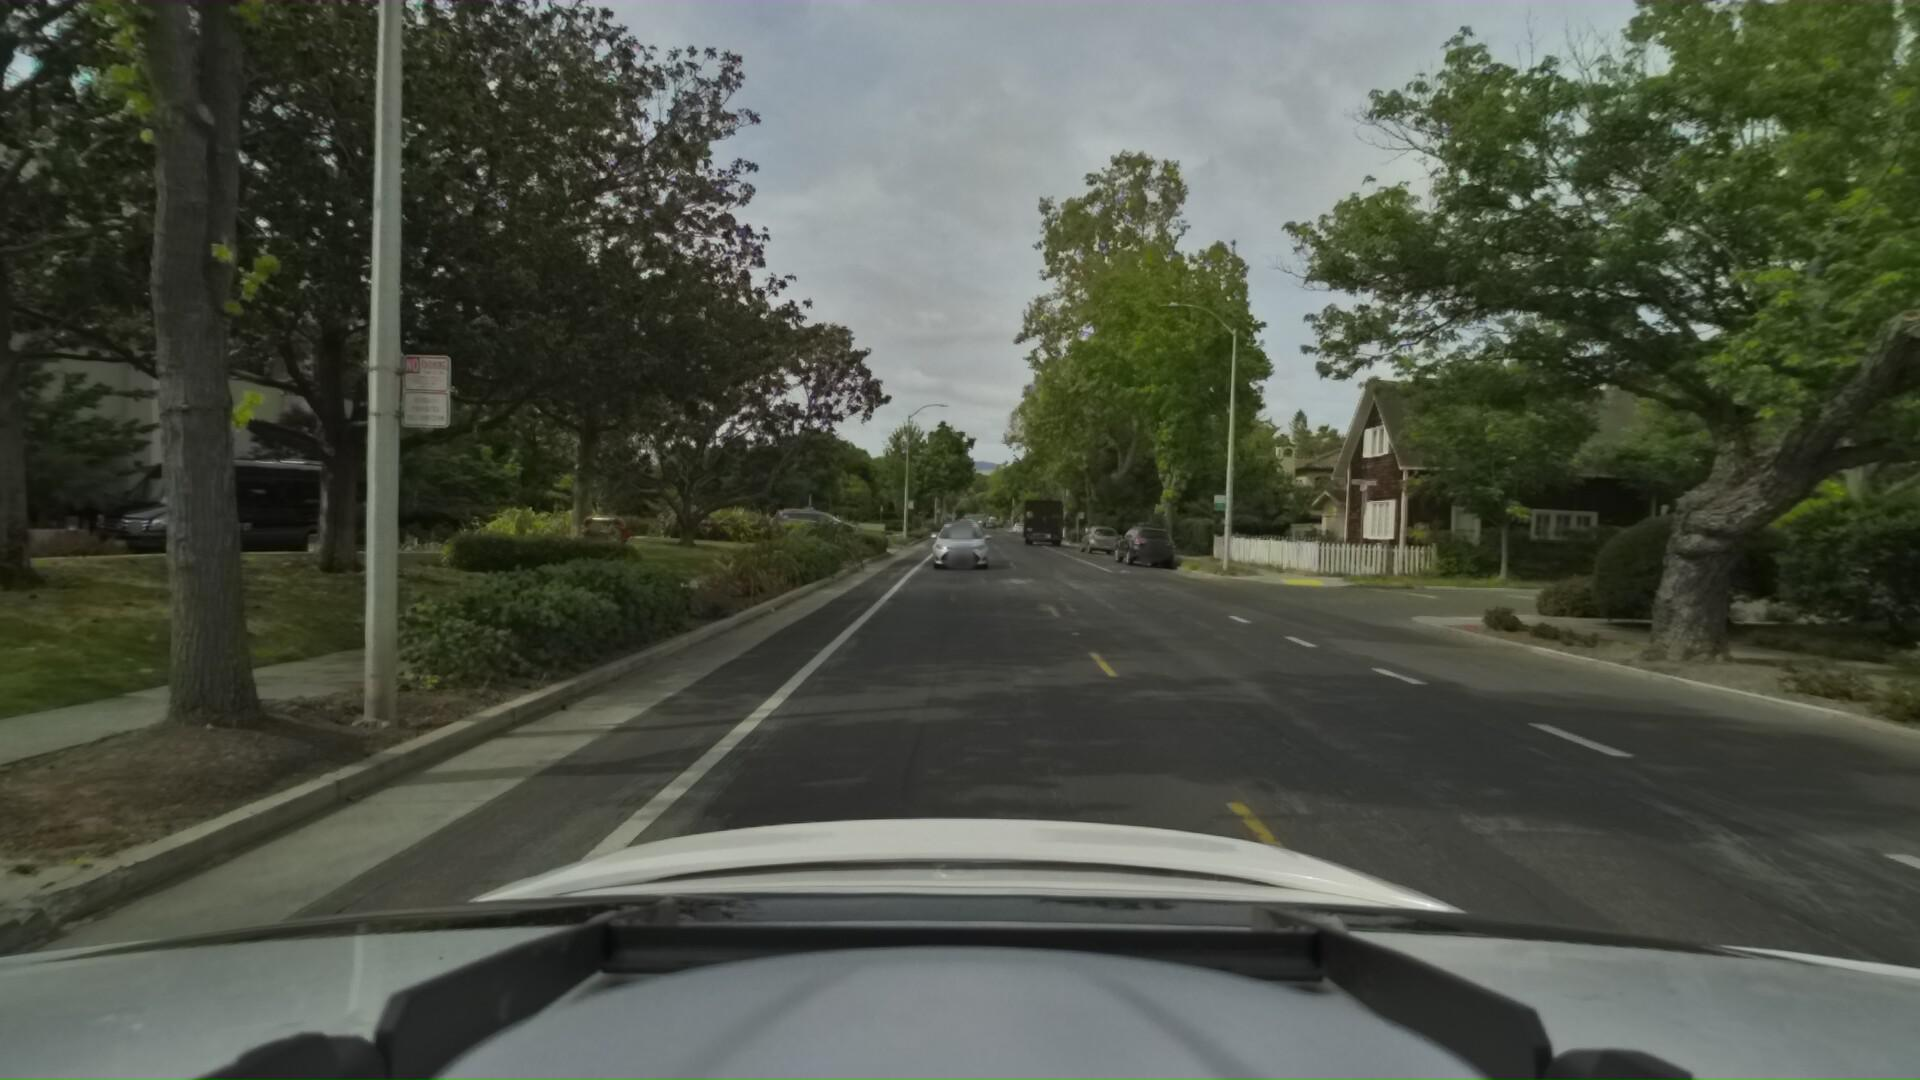car: (80, 440, 378, 566), (1106, 517, 1179, 566), (924, 516, 988, 568), (769, 506, 858, 541), (1075, 521, 1121, 553)
truck: (1019, 493, 1063, 543)
